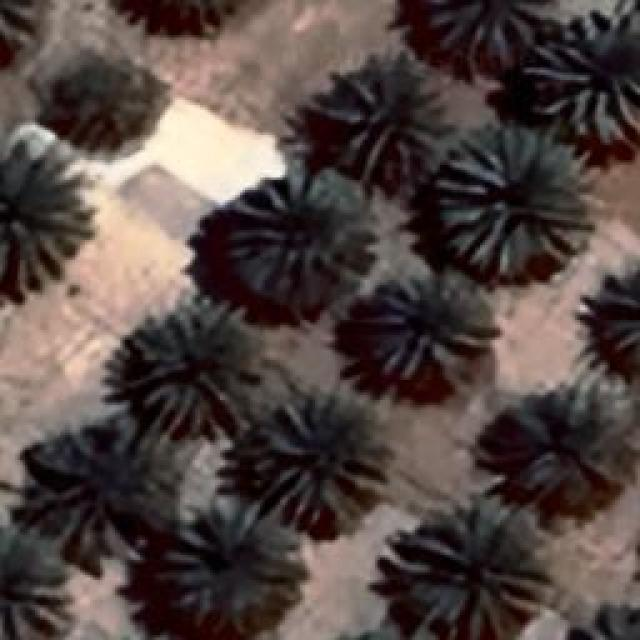PalmTree: (54, 106, 602, 621), (76, 38, 610, 314), (435, 127, 585, 280), (388, 498, 548, 638), (128, 292, 262, 440), (22, 420, 176, 548), (250, 388, 388, 530), (220, 167, 370, 295), (500, 370, 635, 500), (332, 44, 458, 178), (522, 15, 636, 143), (0, 130, 88, 292), (370, 270, 492, 382), (168, 524, 272, 634), (388, 0, 550, 70), (52, 54, 153, 152), (0, 524, 70, 638), (112, 0, 253, 43), (0, 0, 48, 71), (300, 625, 450, 640)
